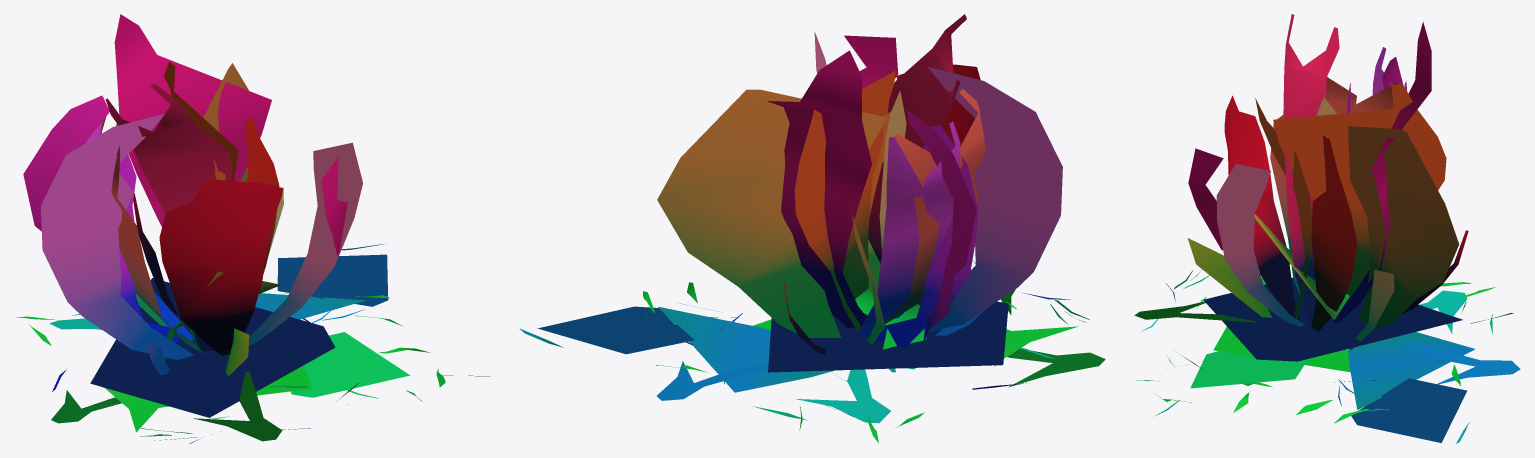
The model's file is Dead_Shrubs_vdknafgha_Low_vdknafgha_VarF_LOD0.fbx.
3 views of the same model, side by side, from view 1: azimuth 30°, elevation 25°; view 2: azimuth 150°, elevation 25°; view 3: azimuth 270°, elevation 25° (orthographic). The views are drawn at different scales.
Parts seen in each view (by area): view 1: _o4iy_VarF_LOD1; view 2: _o4iy_VarF_LOD1; view 3: _o4iy_VarF_LOD1.
Part boxes in pixels (bbox=[...]): _o4iy_VarF_LOD1: bbox=[16, 14, 490, 443]; _o4iy_VarF_LOD1: bbox=[519, 14, 1105, 443]; _o4iy_VarF_LOD1: bbox=[1134, 14, 1520, 443].
Bounding box in the file's own units: 72.58 × 52.57 × 59.66.
